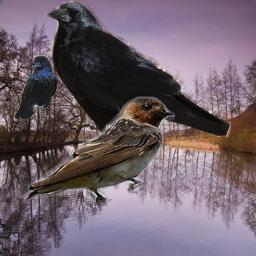Crow: (45, 1, 231, 137), (15, 55, 58, 121)
Swallow: (20, 95, 175, 207)
